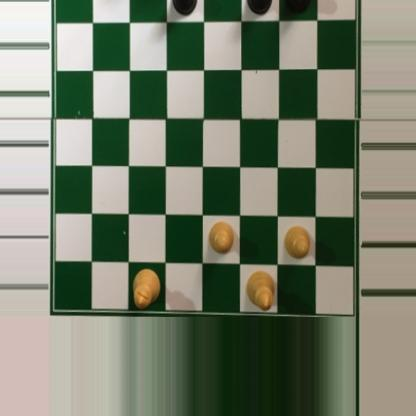black-pawn: (170, 0, 197, 16), (246, 0, 273, 16), (286, 0, 312, 13)
white-bishop: (246, 268, 276, 315), (133, 264, 160, 315)
white-pawn: (283, 224, 311, 260), (208, 220, 234, 257)
